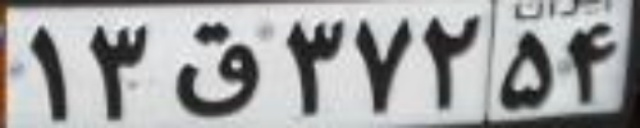1: (25, 24, 65, 121)
2: (423, 14, 487, 109)
3: (85, 23, 146, 121), (283, 18, 343, 114)
4: (564, 23, 615, 104)
5: (498, 30, 552, 109)
7: (352, 16, 414, 114)
ghaf: (171, 20, 261, 117)
